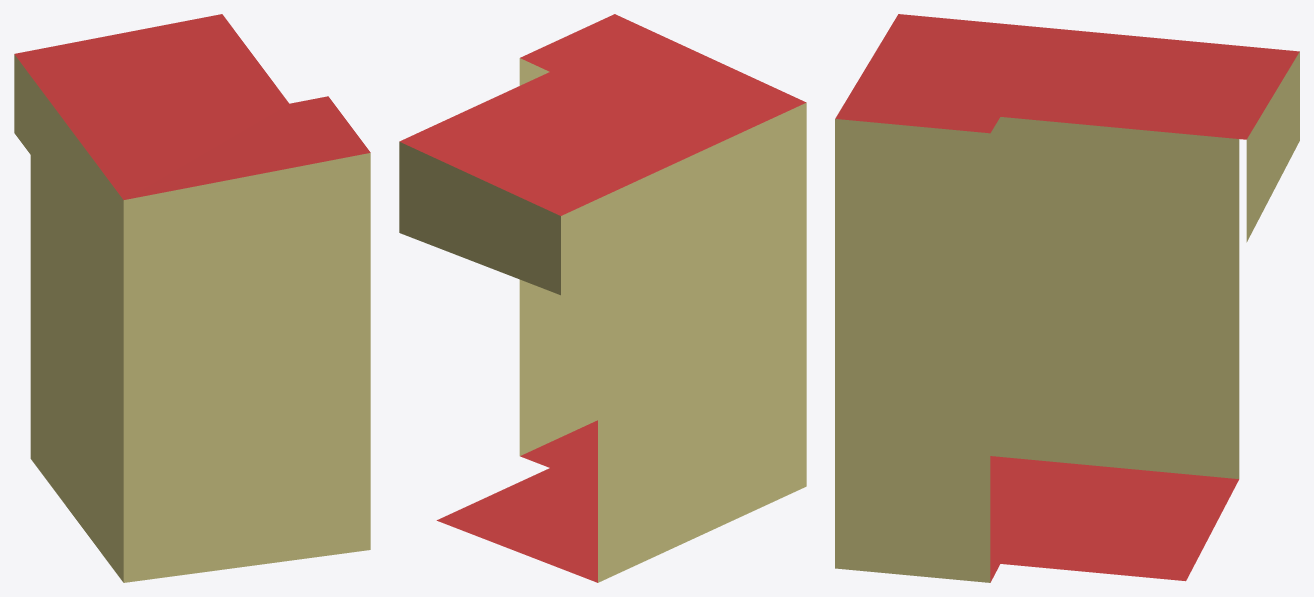
The picture shows the model from 3 angles, left to right: view 1: azimuth 30°, elevation 25°; view 2: azimuth 150°, elevation 25°; view 3: azimuth 270°, elevation 25°; orthographic projection. The views are drawn at different scales.
Parts seen in each view (by area): view 1: group_4, group_3; view 2: group_4, group_3, group_5; view 3: group_4, group_3, group_5.
Boxes of the visible parts, bbox=[...] form: group_4: bbox=[14, 54, 370, 582]; group_3: bbox=[14, 14, 370, 199]; group_4: bbox=[399, 58, 806, 582]; group_3: bbox=[399, 14, 806, 215]; group_5: bbox=[436, 420, 597, 582]; group_4: bbox=[835, 51, 1299, 582]; group_3: bbox=[835, 14, 1299, 139]; group_5: bbox=[990, 456, 1238, 582].
Bounding box in the file's own units: 6.02 × 8.48 × 9.05.
